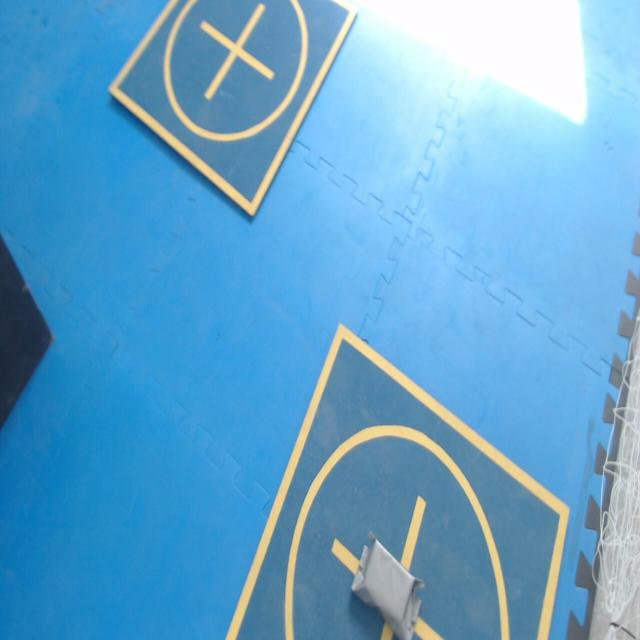lipo: (352, 532, 423, 639)
